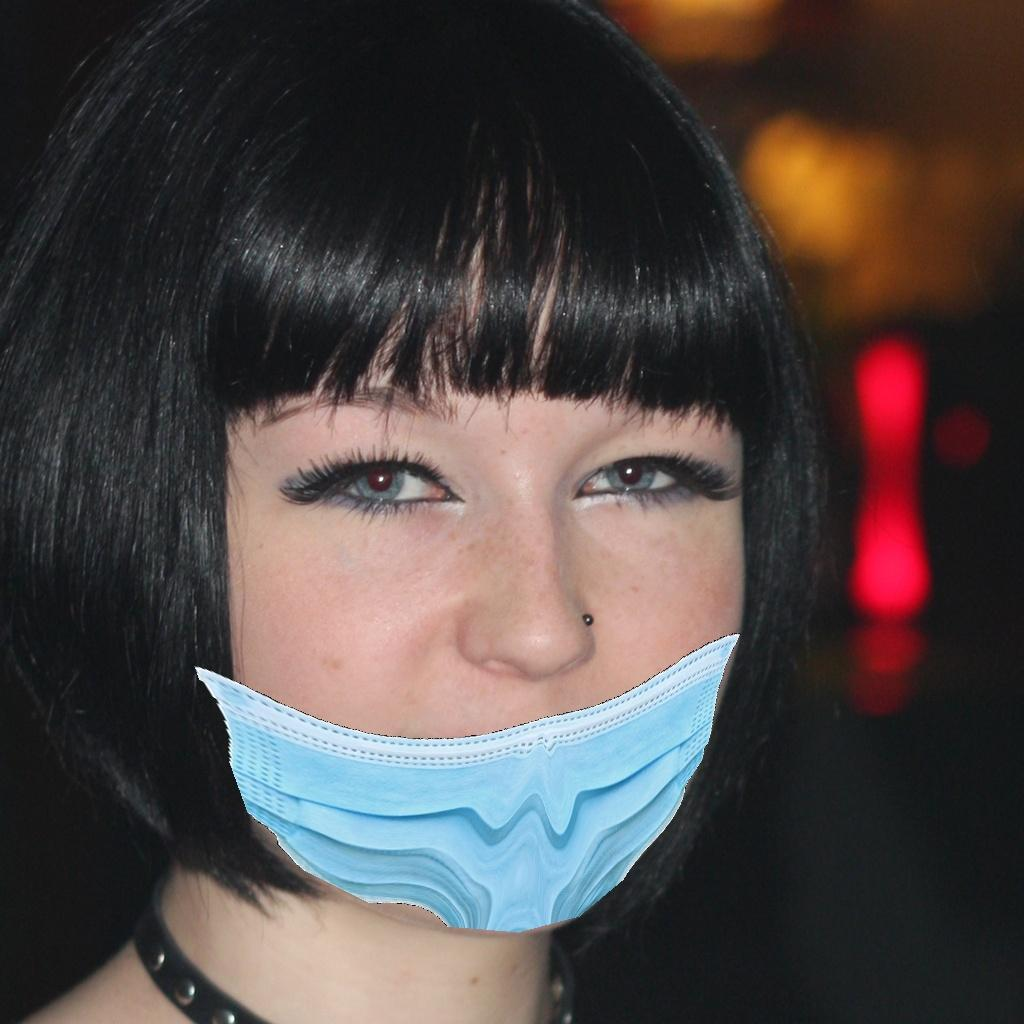Máscara Incorreta: (138, 276, 783, 933)
